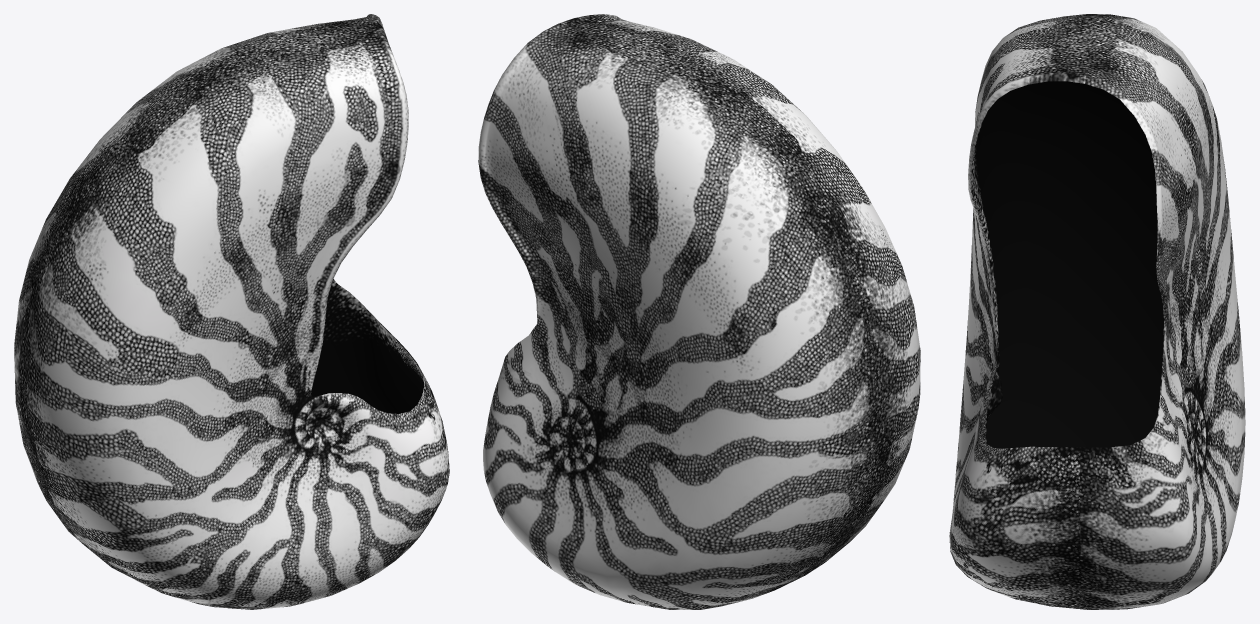
The model's file is KominJeong_Static.fbx.
3 views of the same model, side by side, from view 1: azimuth 30°, elevation 25°; view 2: azimuth 150°, elevation 25°; view 3: azimuth 270°, elevation 25° (orthographic). The views are drawn at different scales.
Parts seen in each view (by area): view 1: KominJeong_Shell02_Static; view 2: KominJeong_Shell02_Static; view 3: KominJeong_Shell02_Static.
Boxes of the visible parts, x1,y1,x2,y2 form: KominJeong_Shell02_Static: (14,14,449,609); KominJeong_Shell02_Static: (478,14,920,609); KominJeong_Shell02_Static: (949,14,1245,609).
Bounding box in the file's own units: 17.11 × 22.27 × 10.55.
2 materials, 2 textured.
